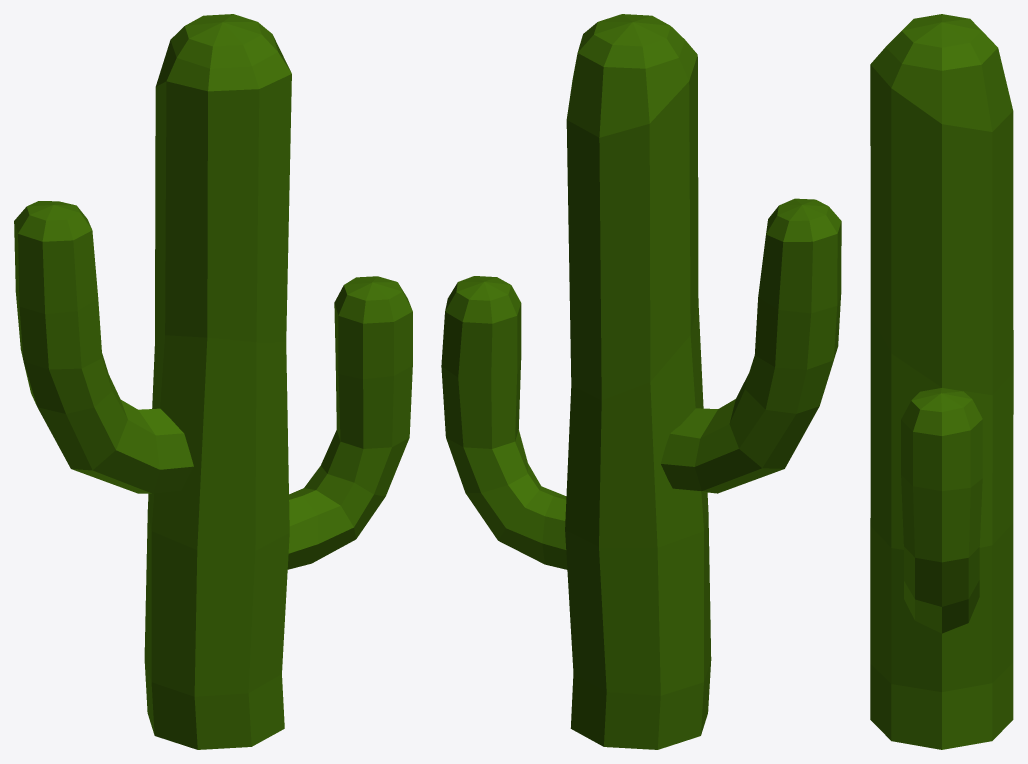
File: Cactus.fbx
3 renders of one model, left to right at view 1: azimuth 30°, elevation 25°; view 2: azimuth 150°, elevation 25°; view 3: azimuth 270°, elevation 25°, orthographic.
Parts seen in each view (by area): view 1: cactus; view 2: cactus; view 3: cactus.
Part boxes in pixels (<box>): cactus: <box>14,14,412,749</box>; cactus: <box>441,14,841,749</box>; cactus: <box>870,14,1013,749</box>.
Size of the model in its own units: 71.14 by 121 by 22.44.
